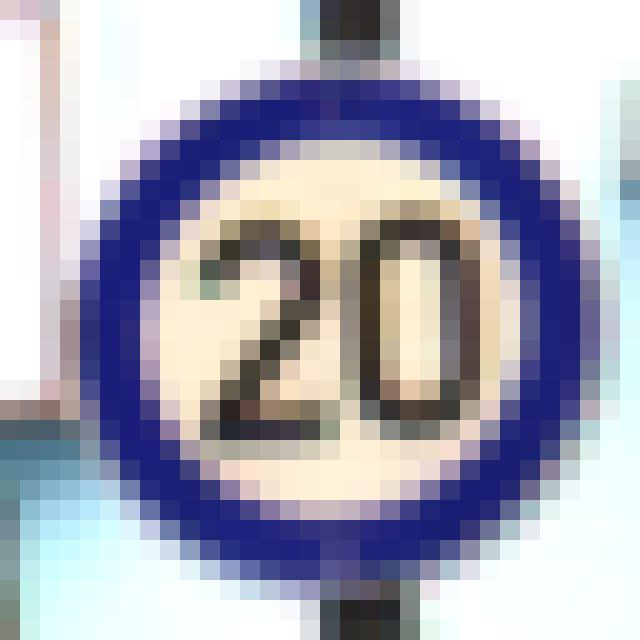SPEED LIMIT 20: (63, 71, 621, 588)
